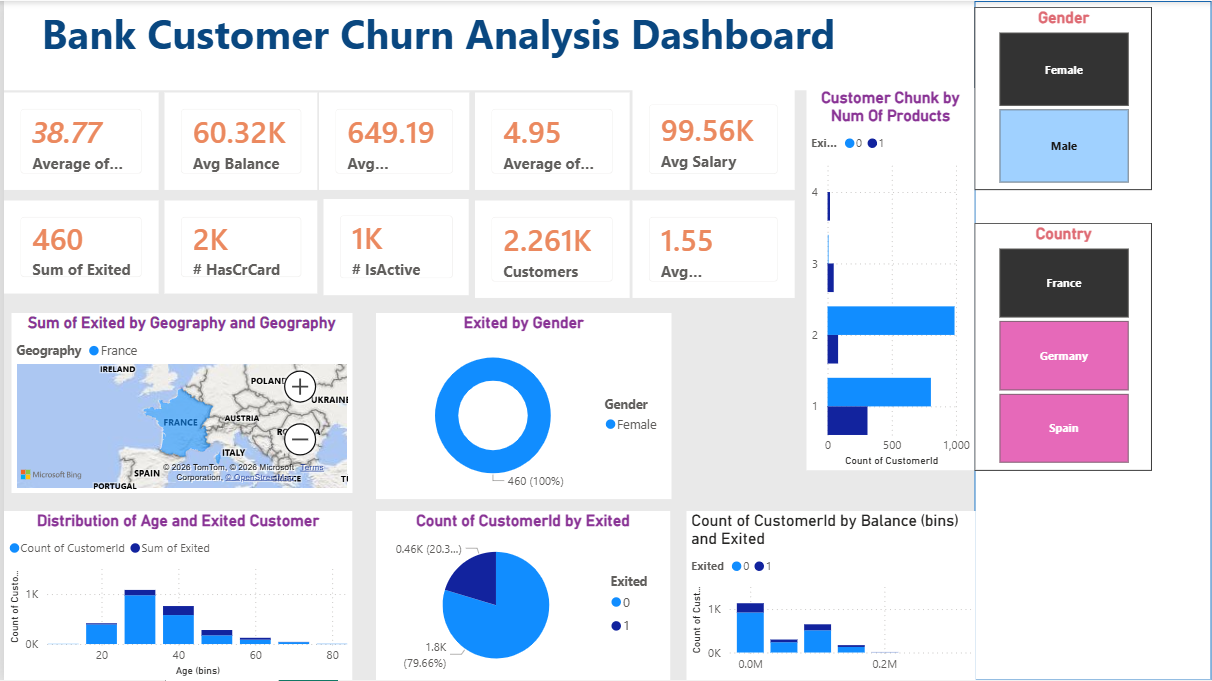

This screenshot's page, from the dashboard's own definition file:
{"tool":"powerbi","page":{"name":"Page 1","canvas":[1280,720],"ordinal":0},"visuals":[{"type":"textbox","box":[0,0,1030.4,94.5],"z":0},{"type":"shape","box":[1029.1,0,251.3,720.5],"z":1000},{"type":"cardVisual","fields":{"Data":["Avg(Customer-Churn-Records.Age)"]},"box":[0,97,163.8,103.4],"z":2000},{"type":"cardVisual","fields":{"Data":["Avg(Customer-Churn-Records.Balance)"]},"box":[170.2,97,162.2,103.4],"z":3000},{"type":"cardVisual","fields":{"Data":["Avg(Customer-Churn-Records.CreditScore)"]},"box":[334,97,159.1,103.4],"z":4000},{"type":"cardVisual","fields":{"Data":["Avg(Customer-Churn-Records.Tenure)"]},"box":[499.5,97,163.8,103.4],"z":5000},{"type":"cardVisual","fields":{"Data":["Avg(Customer-Churn-Records.EstimatedSalary)"]},"box":[666.5,92.3,171.8,108.2],"z":6000},{"type":"cardVisual","fields":{"Data":["Sum(Customer-Churn-Records.HasCrCard)"]},"box":[170.2,211.6,162.2,98.6],"z":7000},{"type":"cardVisual","fields":{"Data":["Sum(Customer-Churn-Records.IsActiveMember)"]},"box":[338.8,210,154.3,101.8],"z":8000},{"type":"cardVisual","fields":{"Data":["Count(Customer-Churn-Records.CustomerId)"]},"box":[499.5,211.6,163.8,103.4],"z":9000},{"type":"cardVisual","fields":{"Data":["Avg(Customer-Churn-Records.NumOfProducts)"]},"box":[666.5,211.6,171.8,103.4],"z":10000},{"type":"cardVisual","fields":{"Data":["Sum(Customer-Churn-Records.Exited)"]},"box":[0,211.6,163.8,98.6],"z":11000},{"type":"slicer","title":"Gender","fields":{"Values":["Customer-Churn-Records.Gender"]},"box":[1029.1,6.4,187.7,194.1],"z":12000},{"type":"slicer","title":"Country","fields":{"Values":["Customer-Churn-Records.Geography"]},"box":[1029.1,235.4,187.7,262.5],"z":13000},{"type":"donutChart","title":"Exited by Gender","fields":{"Category":["Customer-Churn-Records.Gender","Customer-Churn-Records.Exited"],"Y":["Sum(Customer-Churn-Records.Exited)"]},"box":[394.5,330.8,313.4,197.2],"z":14000},{"type":"filledMap","fields":{"Series":["Customer-Churn-Records.Geography"],"Category":["Customer-Churn-Records.Geography"]},"box":[8,330.8,361.1,190.9],"z":15000},{"type":"columnChart","title":"Distribution of Age and Exited Customer","fields":{"Y":["Count(Customer-Churn-Records.CustomerId)","Sum(Customer-Churn-Records.Exited)"],"Category":["Customer-Churn-Records.Age (bins)"]},"box":[0,540.8,369,179.7],"z":15001},{"type":"clusteredBarChart","title":"Customer Chunk by Num Of Products","fields":{"Category":["Customer-Churn-Records.NumOfProducts"],"Y":["CountNonNull(Customer-Churn-Records.CustomerId)"],"Series":["Customer-Churn-Records.Exited"]},"box":[851,92.3,178.1,405.6],"z":15003},{"type":"pieChart","fields":{"Category":["Customer-Churn-Records.Exited"],"Y":["CountNonNull(Customer-Churn-Records.CustomerId)"]},"box":[394.5,540.8,311.8,179.7],"z":15004},{"type":"columnChart","fields":{"Category":["Customer-Churn-Records.Balance (bins)"],"Y":["CountNonNull(Customer-Churn-Records.CustomerId)"],"Series":["Customer-Churn-Records.Exited"]},"box":[723.7,540.8,307,179.7],"z":15005}]}

Visuals, with their boxes in screenshot pixels (x1, y1, x2, y2), scaled from the page's 1280x720 canvas onto the 1212x681 screenshot:
textbox: [0, 0, 976, 89]
shape: [974, 0, 1211, 680]
cardVisual - Avg(Customer-Churn-Records.Age): [0, 92, 155, 190]
cardVisual - Avg(Customer-Churn-Records.Balance): [161, 92, 315, 190]
cardVisual - Avg(Customer-Churn-Records.CreditScore): [316, 92, 467, 190]
cardVisual - Avg(Customer-Churn-Records.Tenure): [473, 92, 628, 190]
cardVisual - Avg(Customer-Churn-Records.EstimatedSalary): [631, 87, 794, 190]
cardVisual - Sum(Customer-Churn-Records.HasCrCard): [161, 200, 315, 293]
cardVisual - Sum(Customer-Churn-Records.IsActiveMember): [321, 199, 467, 295]
cardVisual - Count(Customer-Churn-Records.CustomerId): [473, 200, 628, 298]
cardVisual - Avg(Customer-Churn-Records.NumOfProducts): [631, 200, 794, 298]
cardVisual - Sum(Customer-Churn-Records.Exited): [0, 200, 155, 293]
"Gender" slicer: [974, 6, 1152, 190]
"Country" slicer: [974, 223, 1152, 471]
"Exited by Gender" donutChart: [374, 313, 670, 499]
filledMap - Customer-Churn-Records.Geography x Customer-Churn-Records.Geography: [8, 313, 349, 493]
"Distribution of Age and Exited Customer" columnChart: [0, 512, 349, 680]
"Customer Chunk by Num Of Products" clusteredBarChart: [806, 87, 974, 471]
pieChart - Customer-Churn-Records.Exited x CountNonNull(Customer-Churn-Records.CustomerId): [374, 512, 669, 680]
columnChart - Customer-Churn-Records.Balance (bins) x CountNonNull(Customer-Churn-Records.CustomerId): [685, 512, 976, 680]
